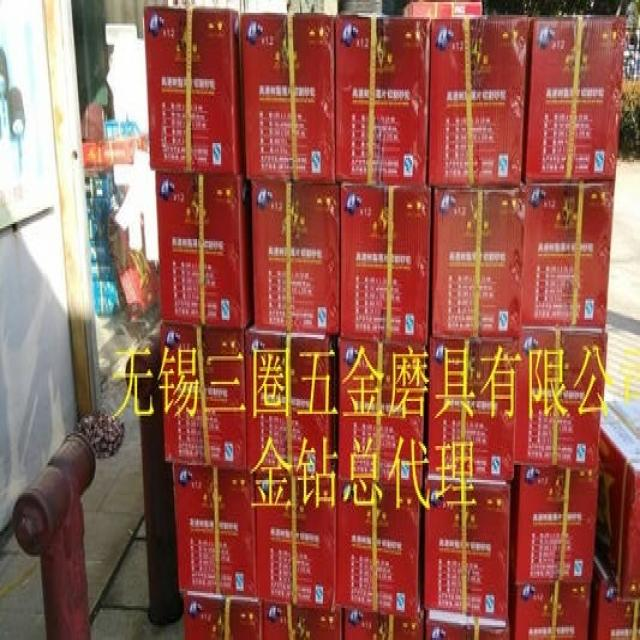box: (428, 15, 528, 189), (524, 15, 627, 183), (334, 14, 430, 190), (145, 6, 246, 172), (241, 14, 338, 183), (155, 168, 255, 330), (339, 187, 432, 343), (245, 318, 334, 481), (432, 188, 526, 342), (521, 180, 615, 327), (160, 326, 249, 473), (516, 329, 607, 472), (423, 472, 510, 621), (337, 339, 426, 484), (253, 184, 339, 334), (428, 338, 518, 479), (335, 478, 422, 618), (253, 478, 337, 609), (174, 464, 258, 594), (510, 464, 598, 584), (595, 399, 639, 596), (510, 562, 591, 637), (587, 544, 639, 638), (181, 591, 262, 637), (261, 597, 344, 637), (423, 611, 508, 638), (341, 609, 423, 636)
